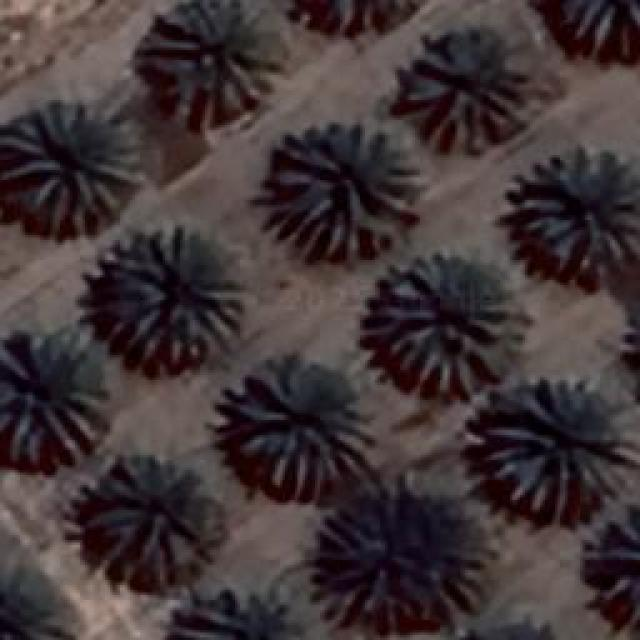PalmTree: (108, 45, 246, 618), (38, 75, 108, 603), (370, 250, 525, 395), (267, 122, 425, 260), (478, 378, 632, 518), (108, 222, 242, 368), (232, 362, 372, 498), (0, 100, 140, 235), (140, 0, 282, 125), (342, 492, 472, 618), (512, 142, 638, 270), (87, 452, 215, 578), (402, 29, 530, 152), (0, 328, 105, 462), (596, 501, 640, 629), (292, 0, 424, 32), (560, 0, 637, 52), (433, 618, 574, 640), (439, 624, 583, 640)
